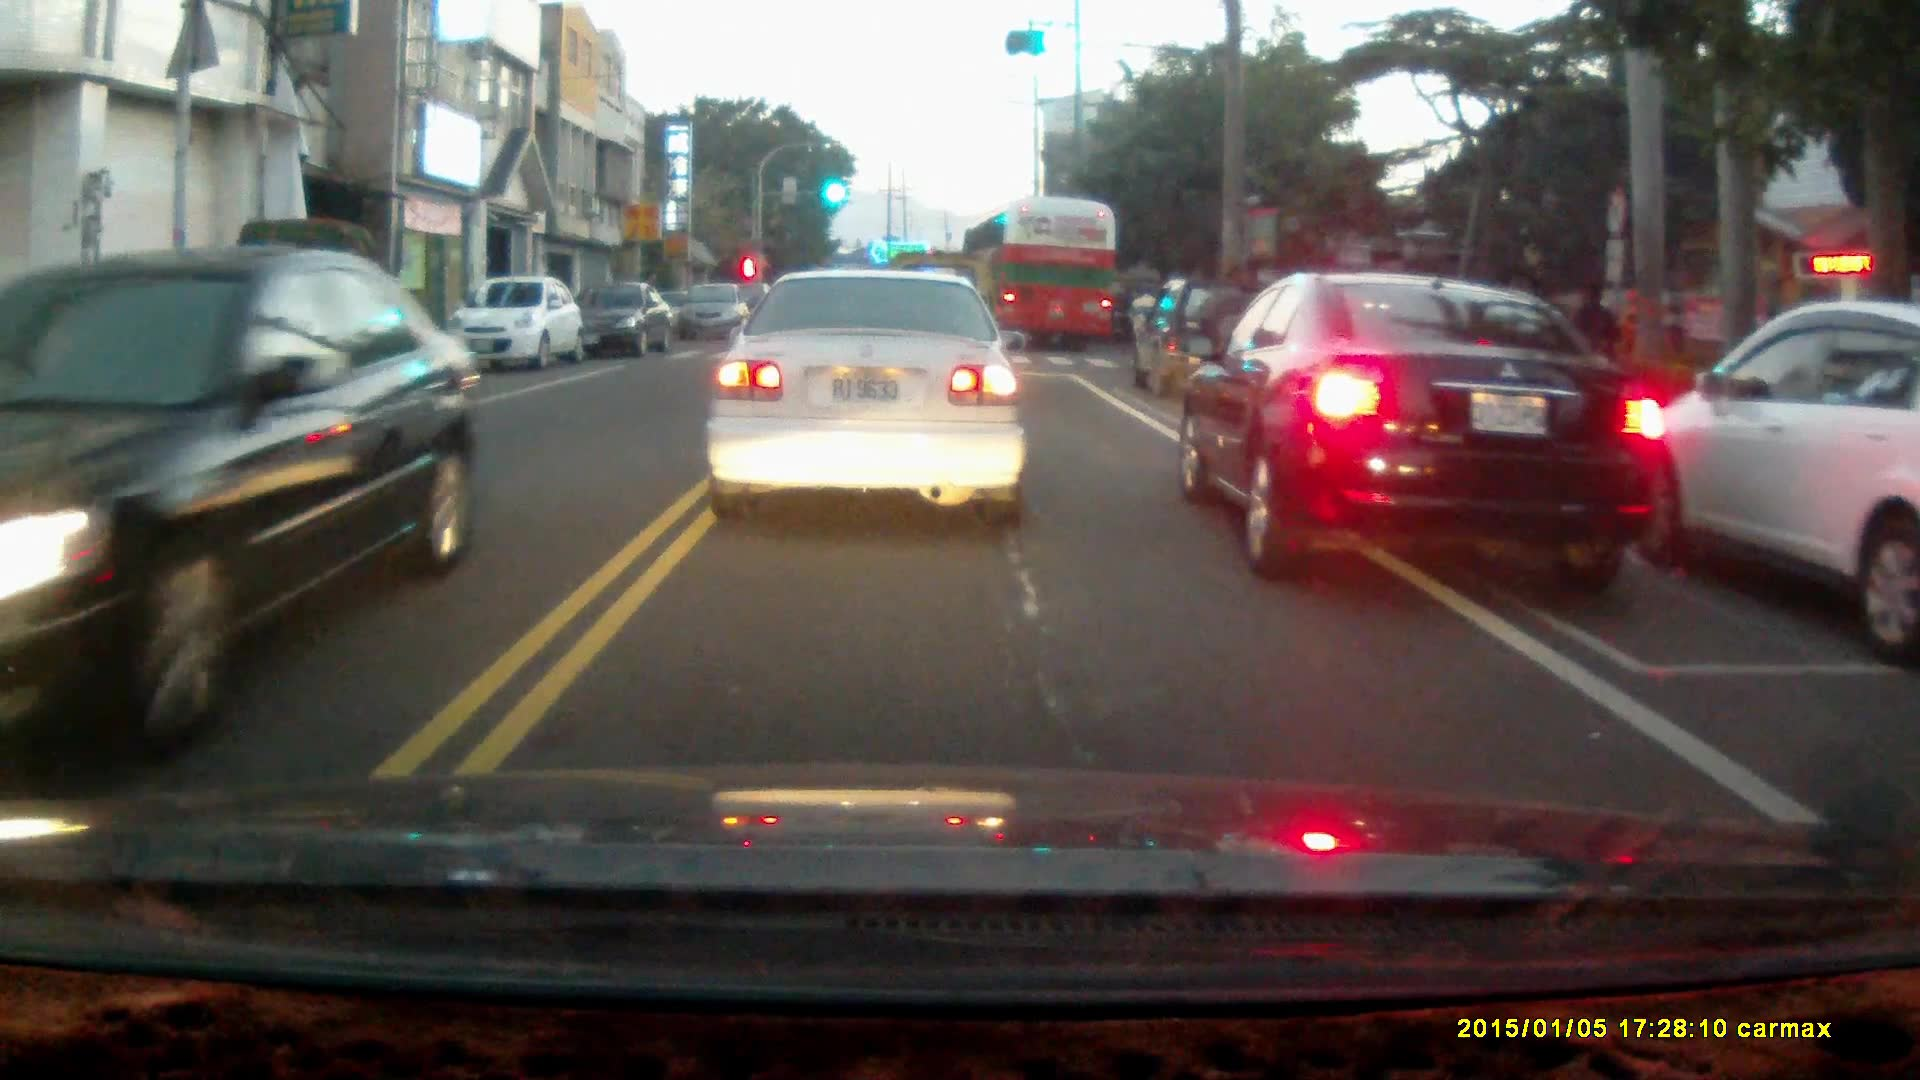pedestrian: (1569, 279, 1619, 405)
vehicle: (1, 247, 481, 760), (1177, 274, 1673, 580), (1611, 297, 1920, 616), (705, 264, 1029, 528), (185, 215, 425, 407), (963, 202, 1117, 357), (1135, 279, 1285, 402), (449, 278, 590, 377), (570, 277, 677, 362), (678, 285, 755, 343)
